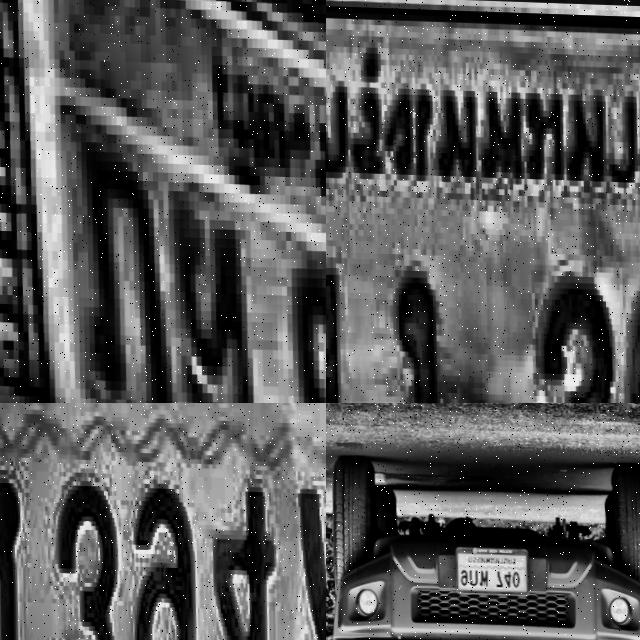license-plate: (0, 0, 326, 403), (326, 0, 640, 403), (0, 403, 326, 640), (451, 544, 528, 594)
